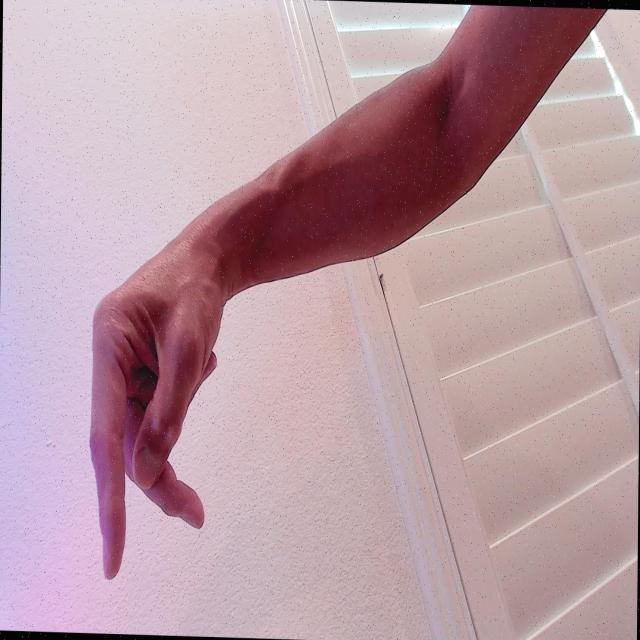P: (80, 208, 227, 589)
